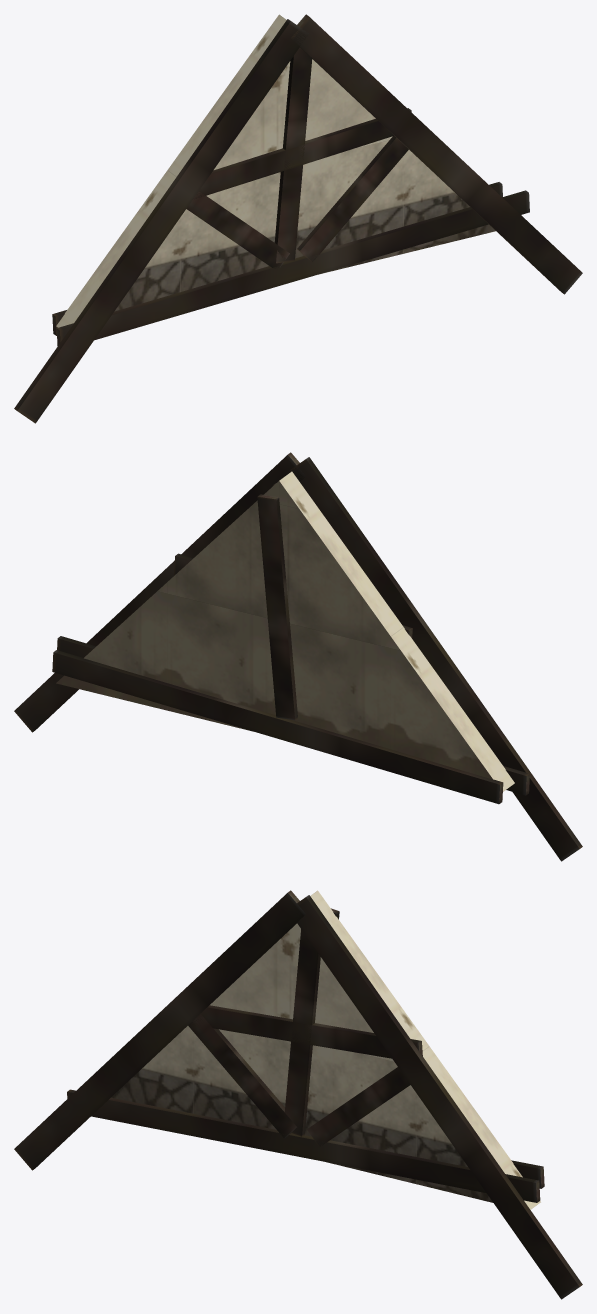
File: gable_timber.obj
3 renders of one model, top to bottom at view 1: azimuth 30°, elevation 25°; view 2: azimuth 150°, elevation 25°; view 3: azimuth 330°, elevation 25°, orthographic.
Parts seen in each view (by area): view 1: gable_timber_1, gable_timber; view 2: gable_timber, gable_timber_1; view 3: gable_timber_1, gable_timber.
Part boxes in pixels (left/top/right/bottom): gable_timber_1: left=14, top=14, right=582, bottom=423; gable_timber: left=56, top=14, right=495, bottom=327; gable_timber: left=56, top=471, right=514, bottom=791; gable_timber_1: left=14, top=452, right=582, bottom=861; gable_timber_1: left=14, top=890, right=582, bottom=1299; gable_timber: left=111, top=890, right=540, bottom=1209.
Size of the model in its own units: 5.06 by 2.91 by 0.37.
1 material, 1 textured.
